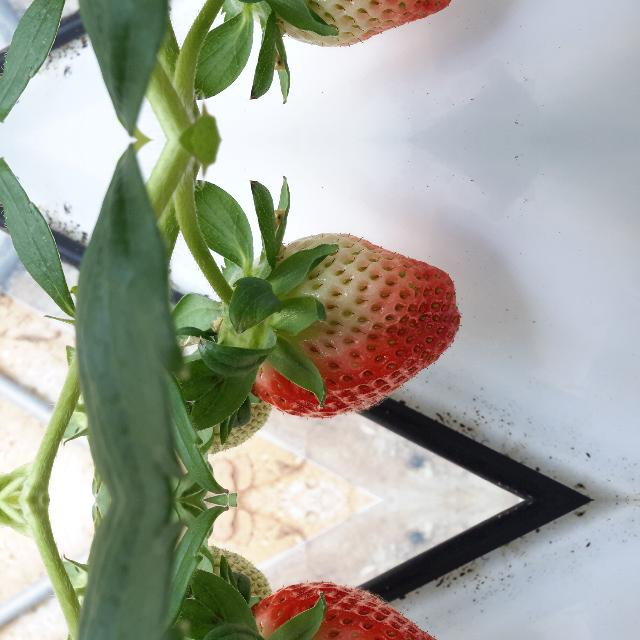Health_100: (250, 232, 458, 420), (249, 580, 458, 640), (249, 0, 458, 47)
